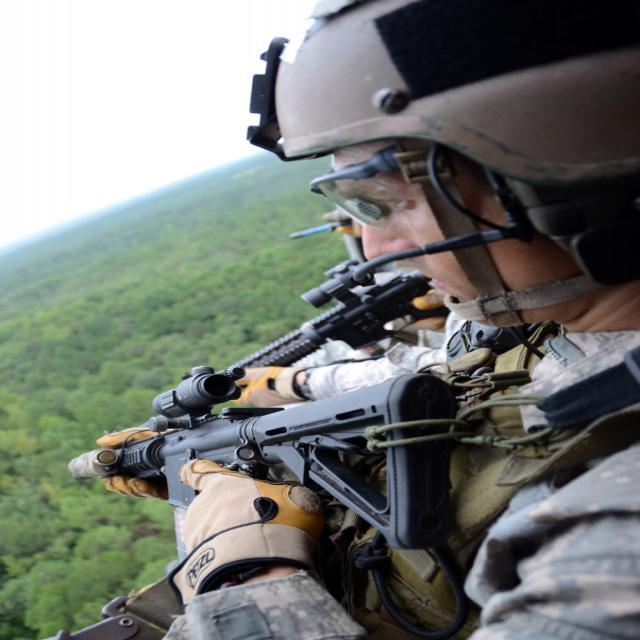weapon: (67, 362, 452, 547), (208, 258, 462, 389)
